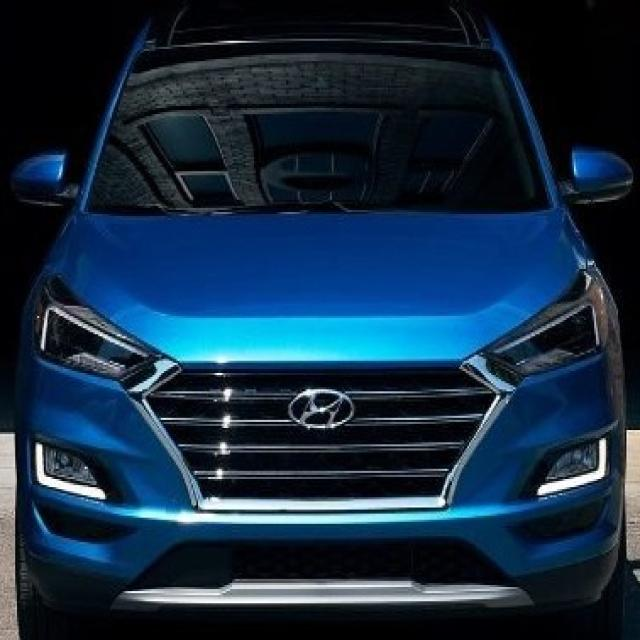blue: (17, 19, 633, 633)
